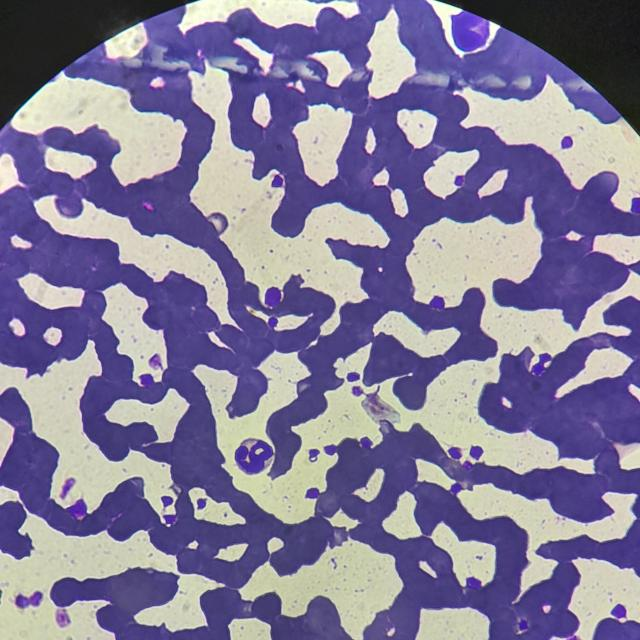Neutrofilo: (233, 438, 274, 474)
